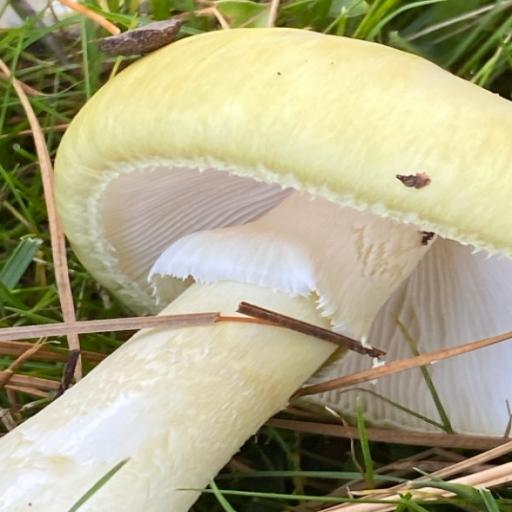Death Cap: (3, 30, 510, 507)
